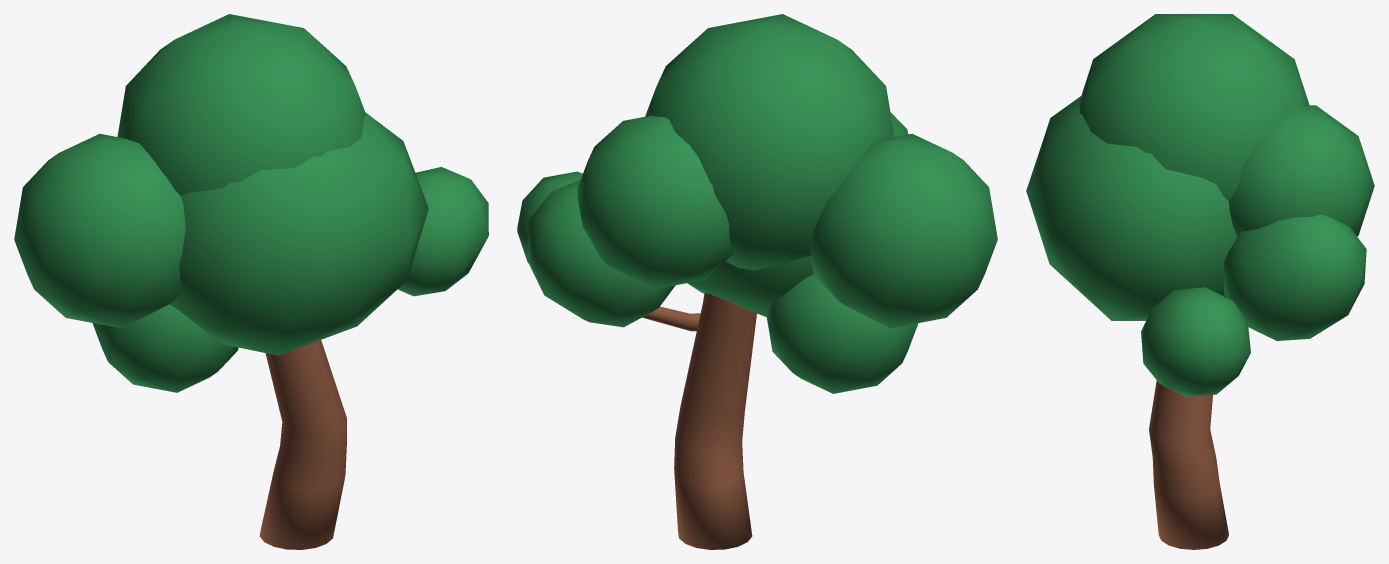
The model's file is tree3.fbx.
The picture shows the model from 3 angles, left to right: view 1: azimuth 30°, elevation 25°; view 2: azimuth 150°, elevation 25°; view 3: azimuth 270°, elevation 25°; orthographic projection. The views are drawn at different scales.
Parts seen in each view (by area): view 1: leaves, tree_trunk; view 2: leaves, tree_trunk, branches; view 3: leaves, tree_trunk.
Boxes of the visible parts, box(x1,y1,x2,y2) form: leaves: box(14, 14, 488, 392); tree_trunk: box(259, 340, 346, 549); leaves: box(517, 14, 997, 393); tree_trunk: box(674, 292, 756, 549); branches: box(642, 306, 700, 331); leaves: box(1026, 14, 1374, 397); tree_trunk: box(1149, 380, 1228, 549).
Bounding box in the file's own units: 1405 × 1538 × 989.
